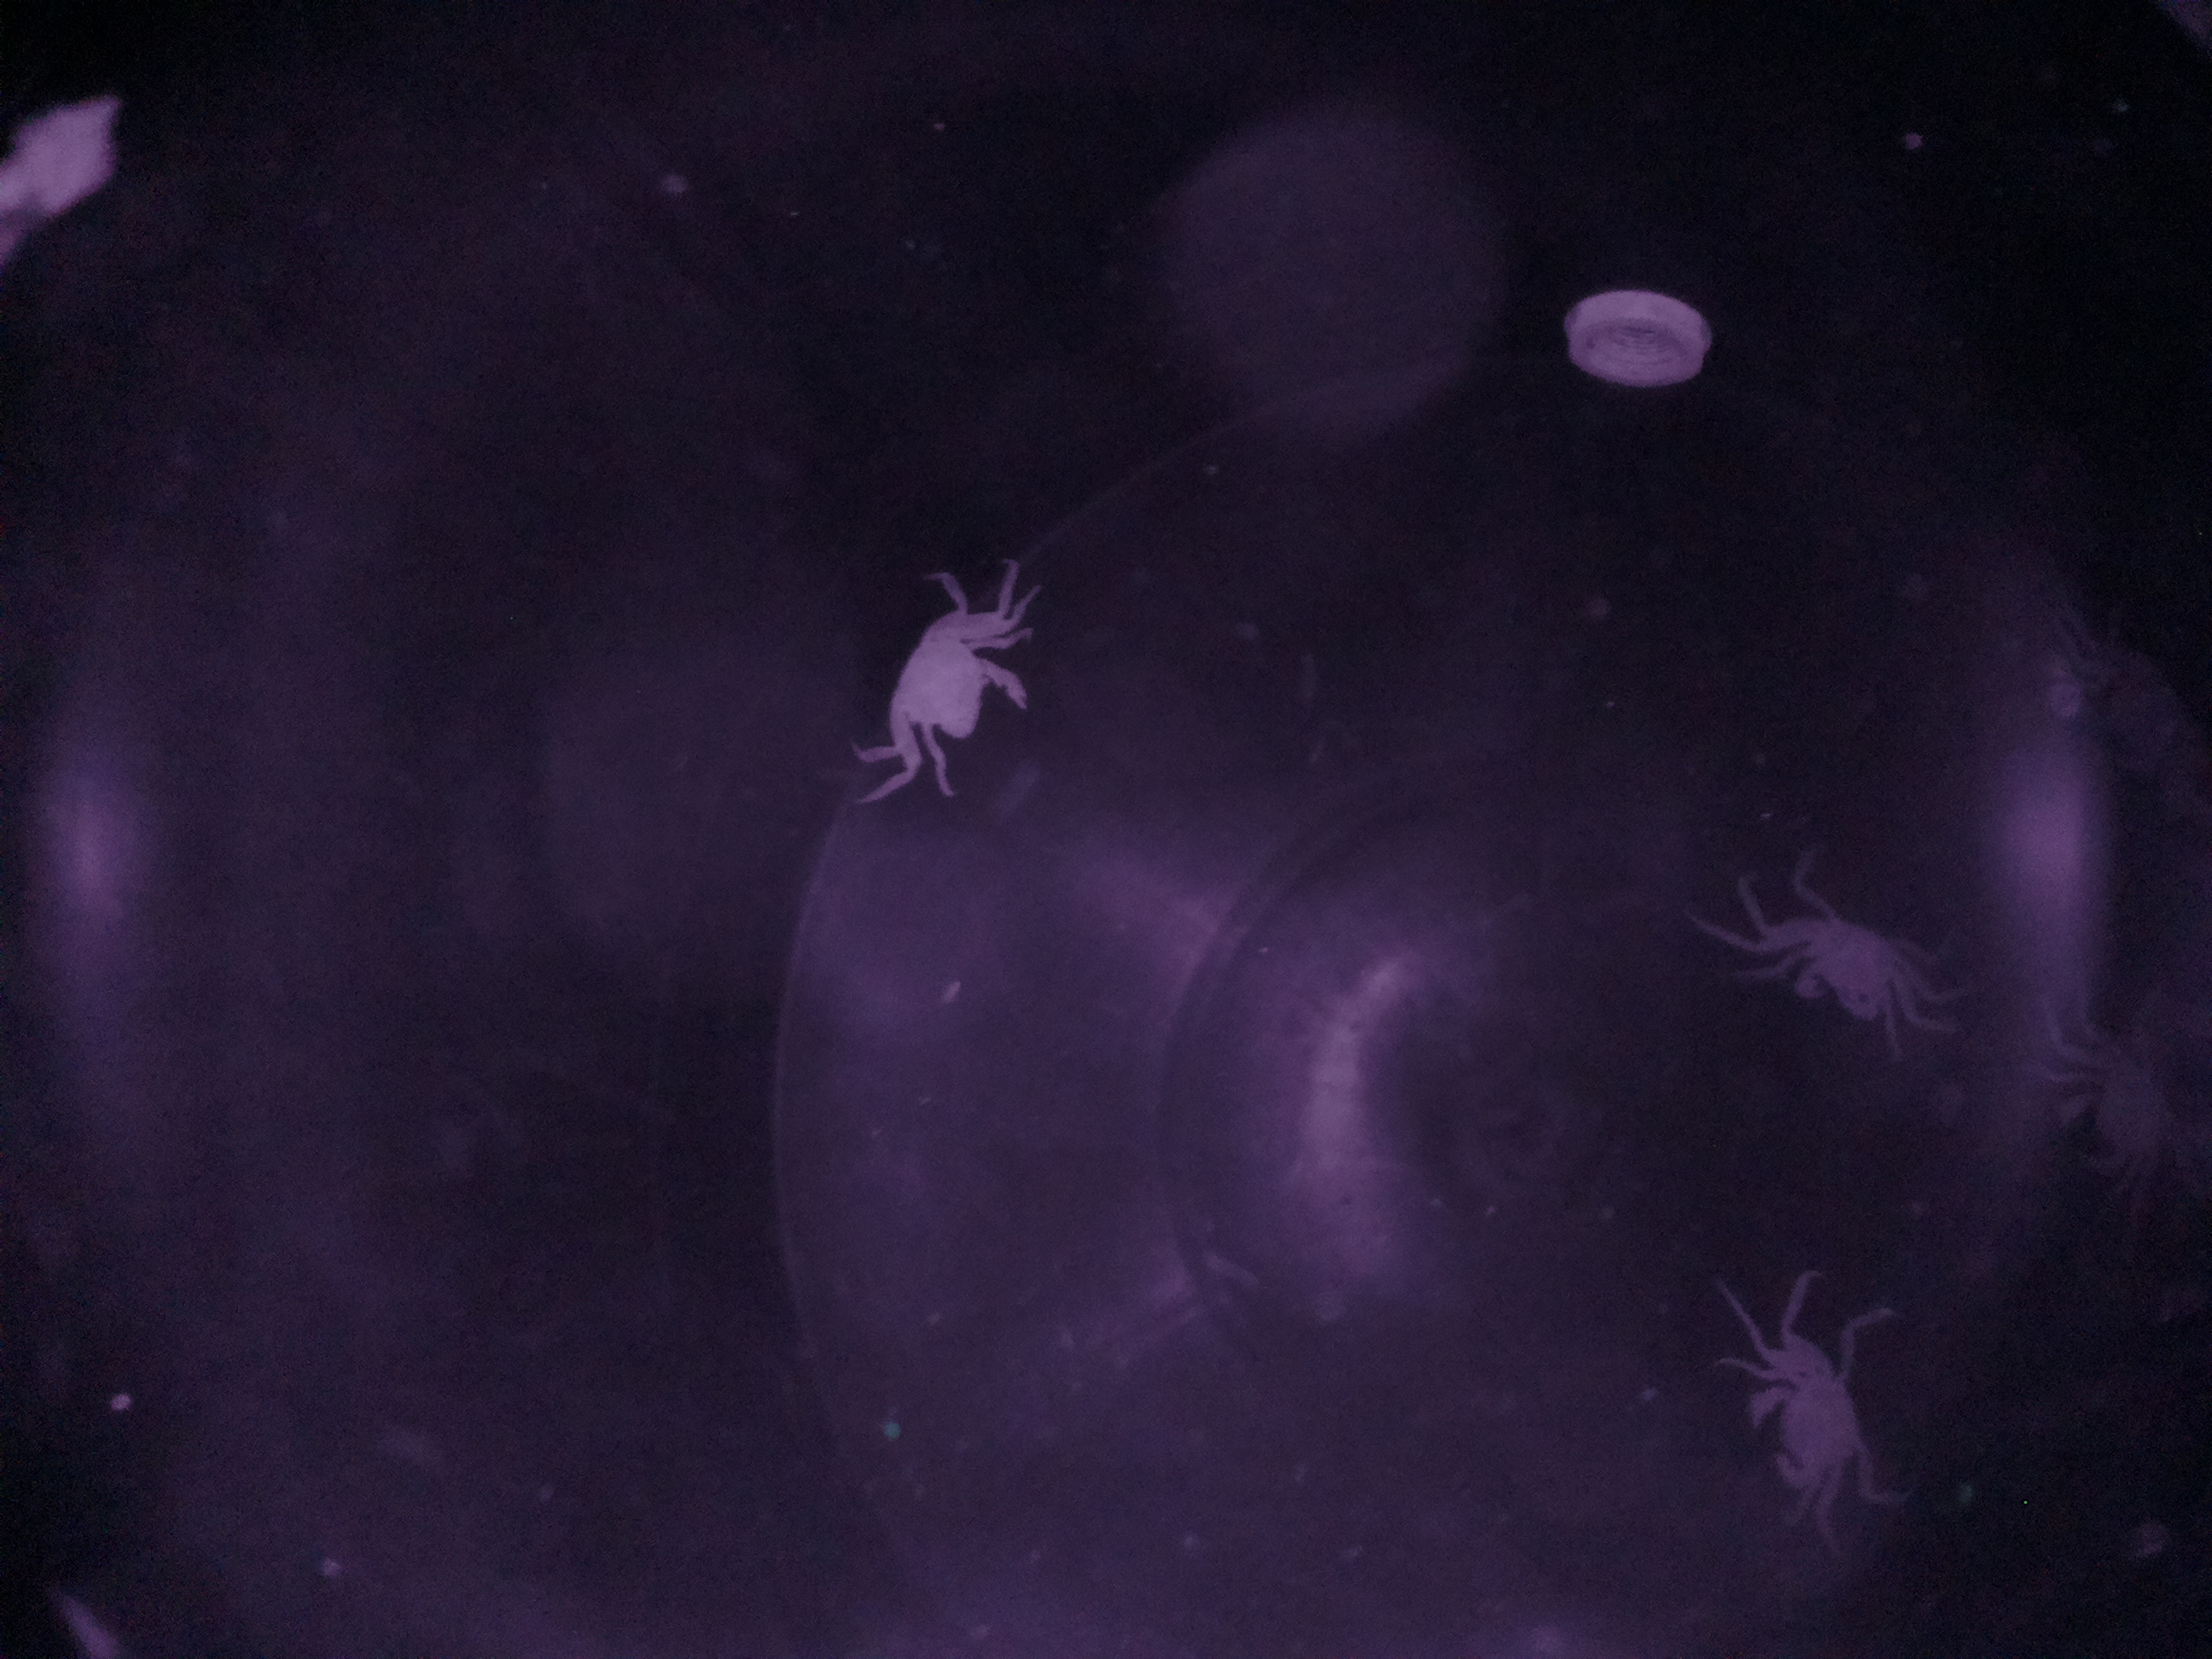Crab: (878, 584, 1045, 788), (1733, 1328, 1885, 1534)
